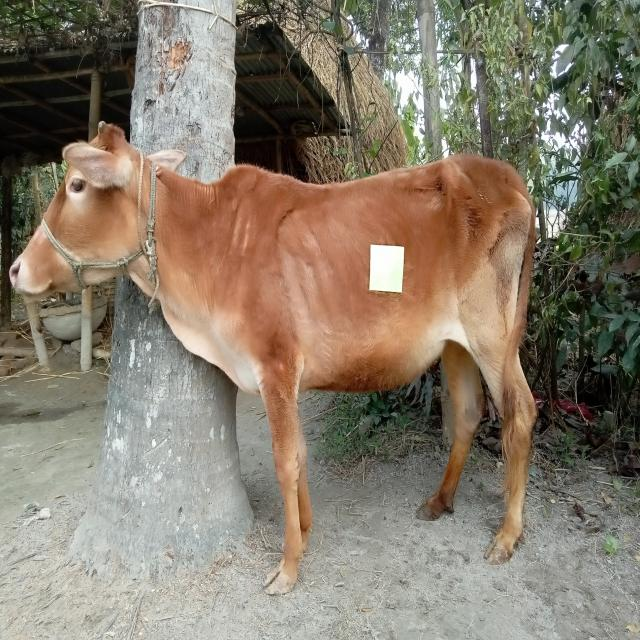badan_sapi: (230, 162, 522, 394)
sapi: (7, 110, 544, 604)
